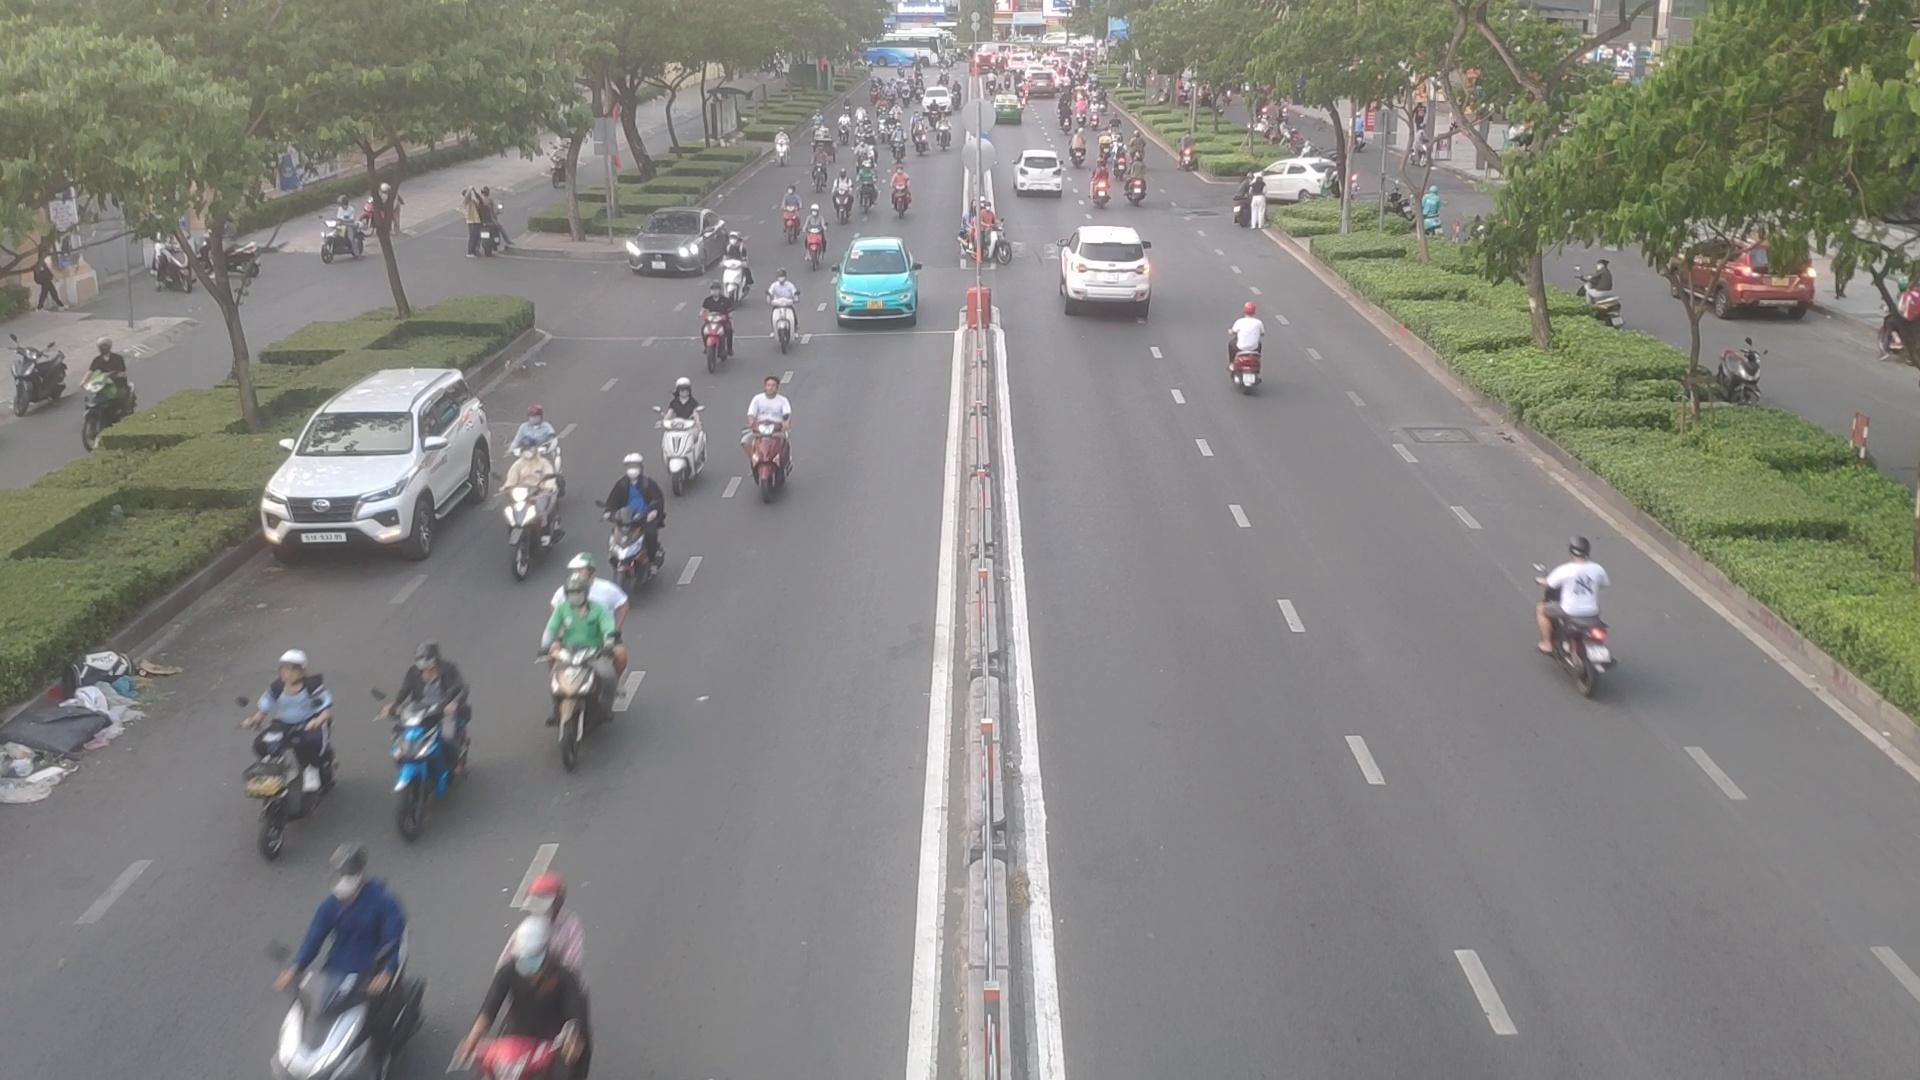car: (262, 368, 498, 566), (829, 237, 926, 327), (626, 210, 741, 280), (1060, 227, 1156, 310), (1249, 158, 1338, 203), (1015, 146, 1069, 193)
motorbike: (262, 884, 425, 1080), (373, 622, 473, 843), (247, 651, 338, 845), (553, 553, 636, 756), (1534, 545, 1629, 707), (505, 429, 550, 583), (616, 456, 663, 588), (663, 382, 707, 495), (1212, 302, 1261, 396), (957, 203, 1017, 264), (748, 377, 782, 480), (709, 229, 750, 299), (770, 268, 804, 336), (702, 299, 731, 364), (803, 196, 829, 265), (855, 160, 887, 214), (781, 185, 800, 248), (771, 120, 796, 165), (831, 160, 851, 216), (1129, 156, 1149, 210), (893, 164, 914, 214), (808, 148, 831, 189), (1110, 141, 1131, 177), (1093, 165, 1109, 208), (913, 117, 930, 157), (893, 127, 907, 162)
